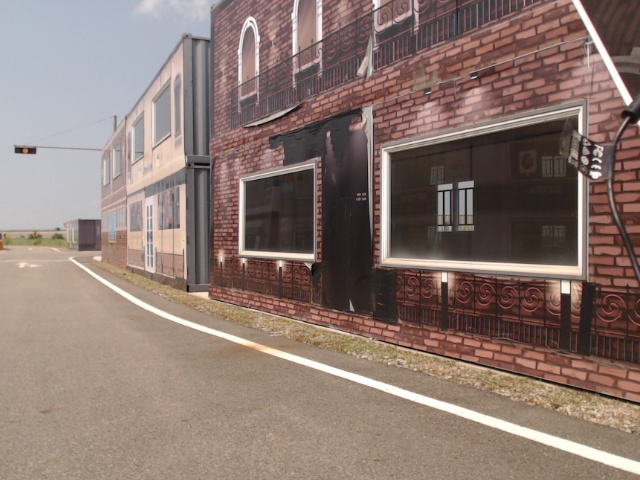orange_3: (16, 146, 36, 154)
